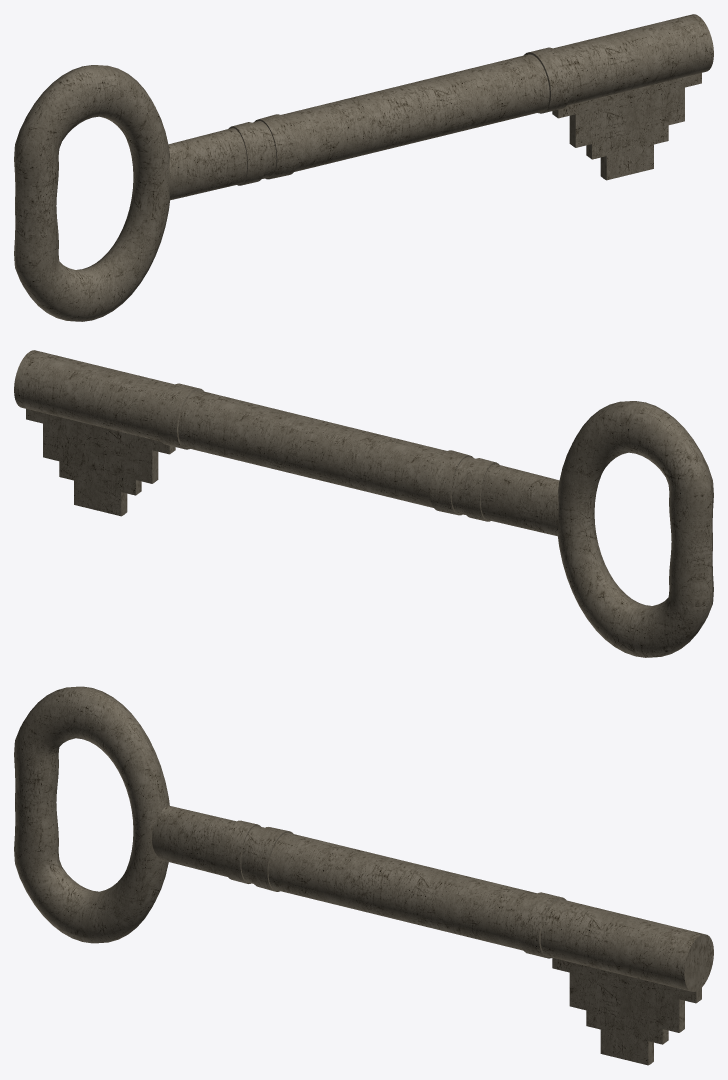
The model's file is KunciPintu.fbx.
3 renders of one model, top to bottom at view 1: azimuth 30°, elevation 25°; view 2: azimuth 150°, elevation 25°; view 3: azimuth 330°, elevation 25°, orthographic.
Parts seen in each view (by area): view 1: Kunci Pintu; view 2: Kunci Pintu; view 3: Kunci Pintu.
Boxes of the visible parts, x1,y1,x2,y2 form: Kunci Pintu: (14,14,713,321); Kunci Pintu: (14,350,713,657); Kunci Pintu: (14,686,713,1065).
Bounding box in the file's own units: 200 × 70.84 × 15.95.
